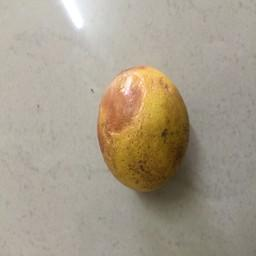Bad_lime: (97, 65, 193, 192)
